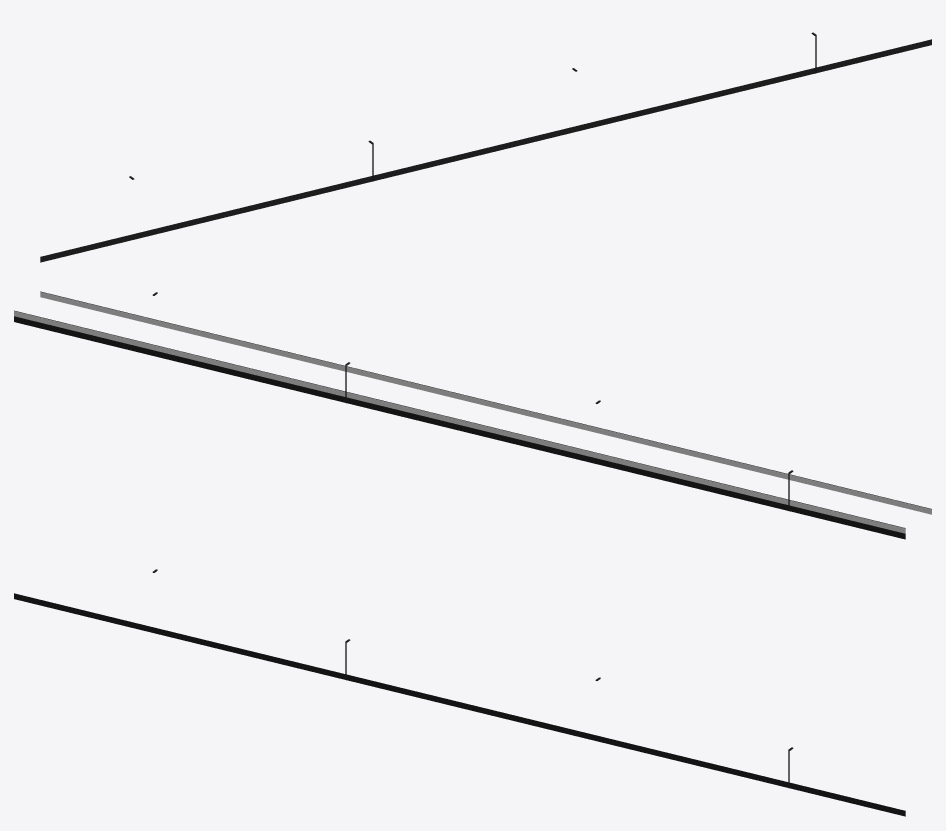
Rendered from AMB_LAND_BRIDGE_D4.glb.
3 renders of one model, top to bottom at view 1: azimuth 30°, elevation 25°; view 2: azimuth 150°, elevation 25°; view 3: azimuth 330°, elevation 25°, orthographic.
Visible parts, largest first — view 1: J00; view 2: J00; view 3: J00.
Part boxes in pixels (x1,y1,x2,y2): J00: [40, 32, 931, 262]; J00: [14, 291, 931, 539]; J00: [14, 569, 905, 816].
Size of the model in its own units: 805 by 33.19 by 42.93.
Materials: 3 (3 with a texture image).
